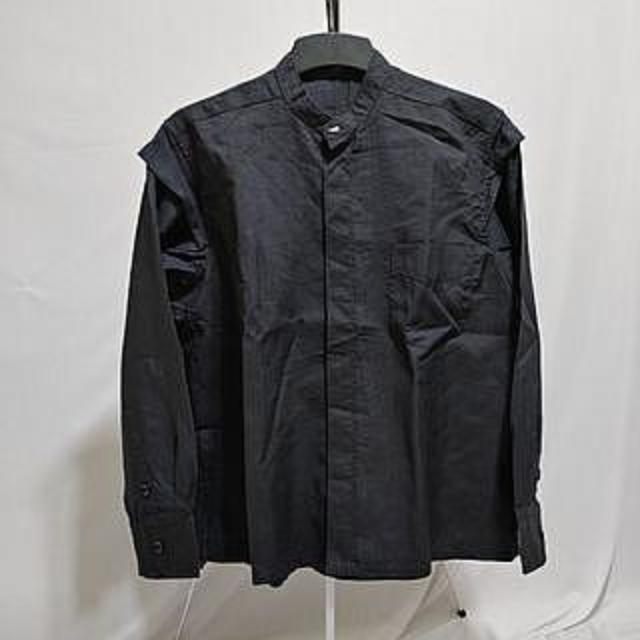SHIRT: (99, 46, 596, 594)
